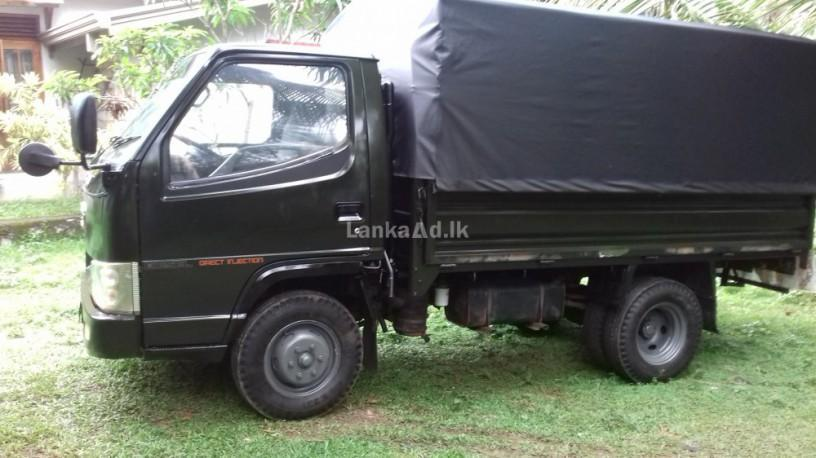truck: (19, 1, 816, 420)
